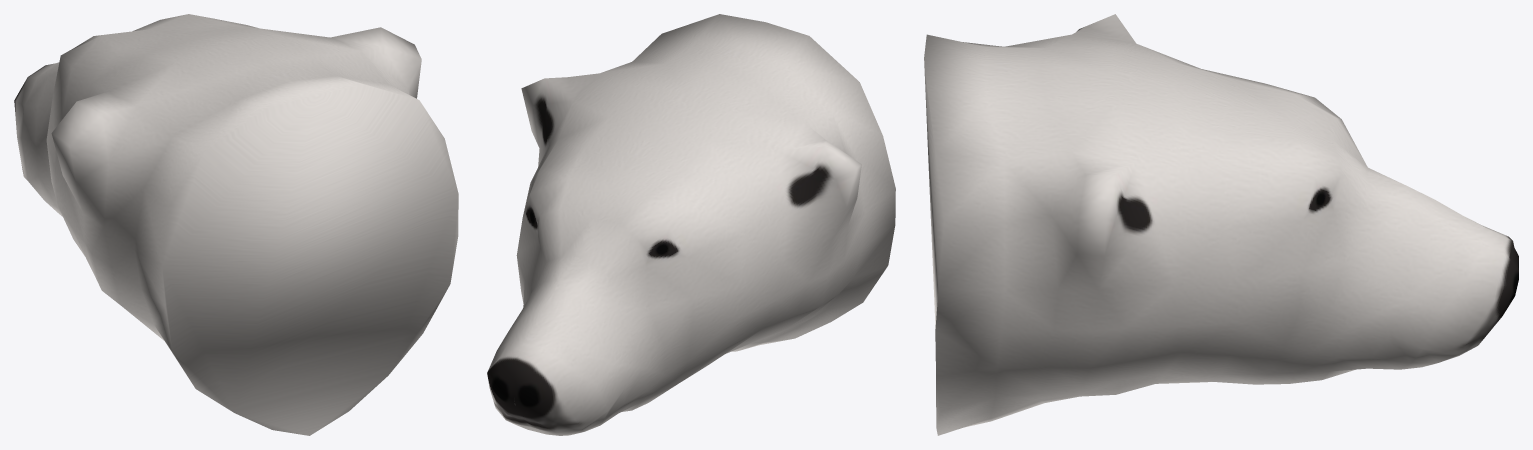
File: r_head.obj
The picture shows the model from 3 angles, left to right: view 1: azimuth 30°, elevation 25°; view 2: azimuth 150°, elevation 25°; view 3: azimuth 270°, elevation 25°; orthographic projection. The views are drawn at different scales.
Visible parts, largest first — view 1: Polar_Bear.005; view 2: Polar_Bear.005; view 3: Polar_Bear.005.
Boxes of the visible parts, bbox=[...] form: Polar_Bear.005: bbox=[14, 14, 458, 435]; Polar_Bear.005: bbox=[487, 14, 895, 435]; Polar_Bear.005: bbox=[924, 14, 1518, 435].
Bounding box in the file's own units: 0.7141 × 0.6498 × 0.9342.
1 material, 1 textured.
